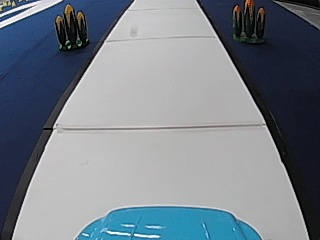corn: (53, 2, 90, 50), (230, 0, 267, 43)
